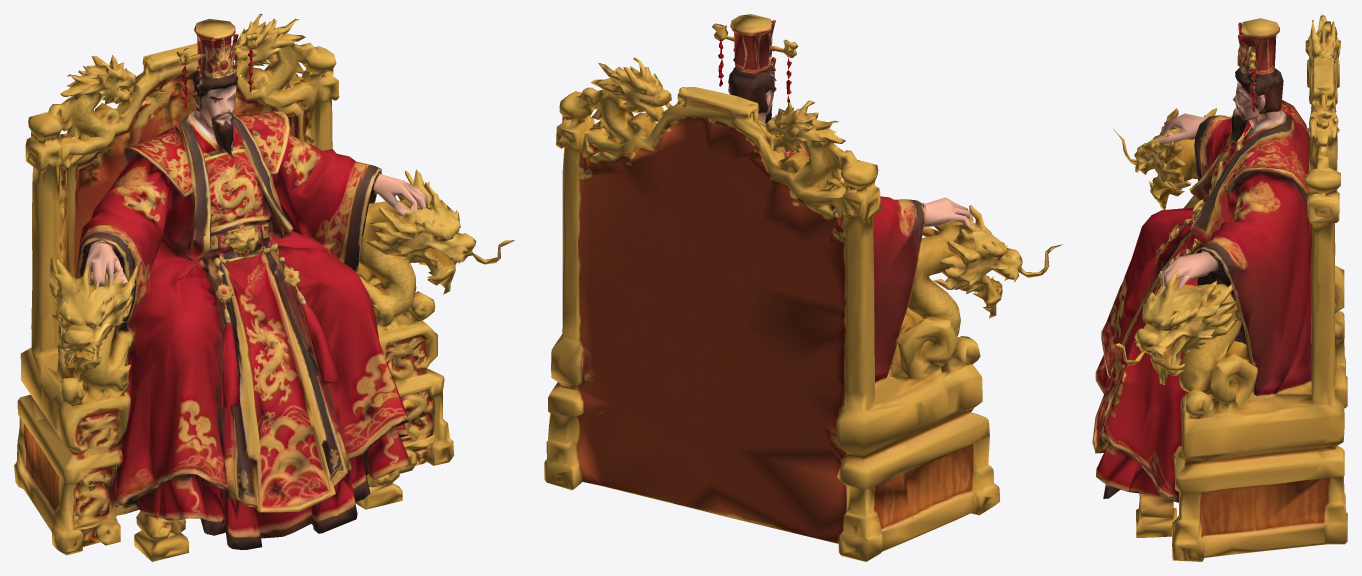
Rendered from tuong_red.glb.
3 renders of one model, left to right at view 1: azimuth 30°, elevation 25°; view 2: azimuth 150°, elevation 25°; view 3: azimuth 270°, elevation 25°, orthographic. The views are drawn at different scales.
Parts seen in each view (by area): view 1: XiangqiPiece; view 2: XiangqiPiece; view 3: XiangqiPiece.
Boxes of the visible parts, x1,y1,x2,y2 form: XiangqiPiece: (14, 14, 514, 561); XiangqiPiece: (544, 14, 1062, 561); XiangqiPiece: (1092, 14, 1347, 561).
Bounding box in the file's own units: 1.02 × 0.9875 × 0.5063.
Materials: 1 (1 with a texture image).
